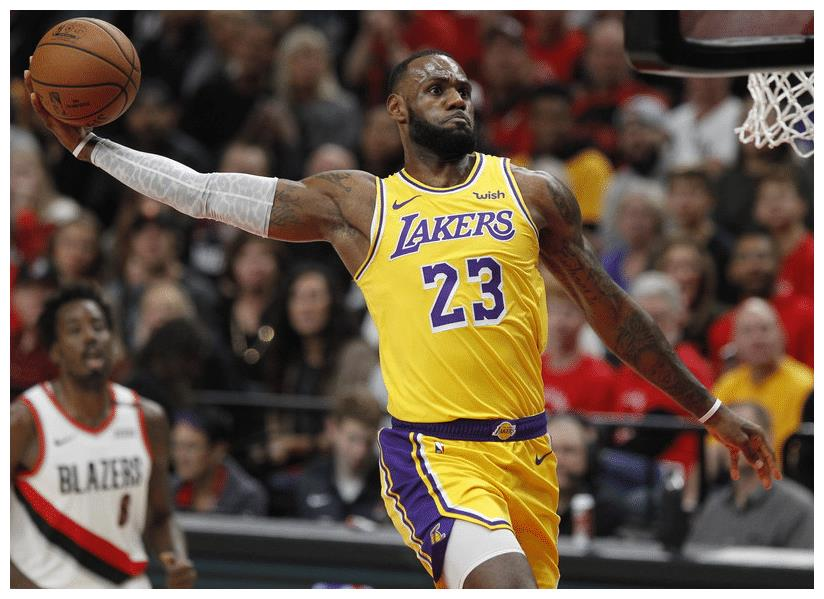ball: (29, 17, 142, 128)
